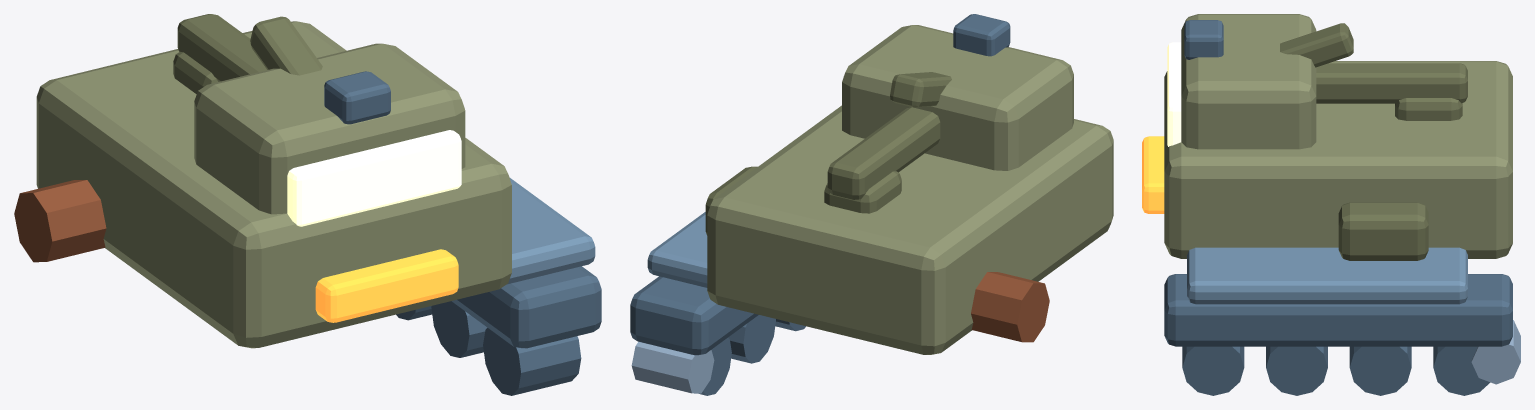
Rendered from com_repair_vehicle.glb.
3 views of the same model, side by side, from view 1: azimuth 30°, elevation 25°; view 2: azimuth 150°, elevation 25°; view 3: azimuth 270°, elevation 25° (orthographic). The views are drawn at different scales.
Parts seen in each view (by area): view 1: com_repair_vehicle; view 2: com_repair_vehicle; view 3: com_repair_vehicle.
Part boxes in pixels (box(x1,y1,x2,y2)): com_repair_vehicle: box(14, 14, 601, 395); com_repair_vehicle: box(630, 14, 1113, 395); com_repair_vehicle: box(1142, 14, 1520, 395).
Size of the model in its own units: 0.705 by 0.56 by 0.674.
